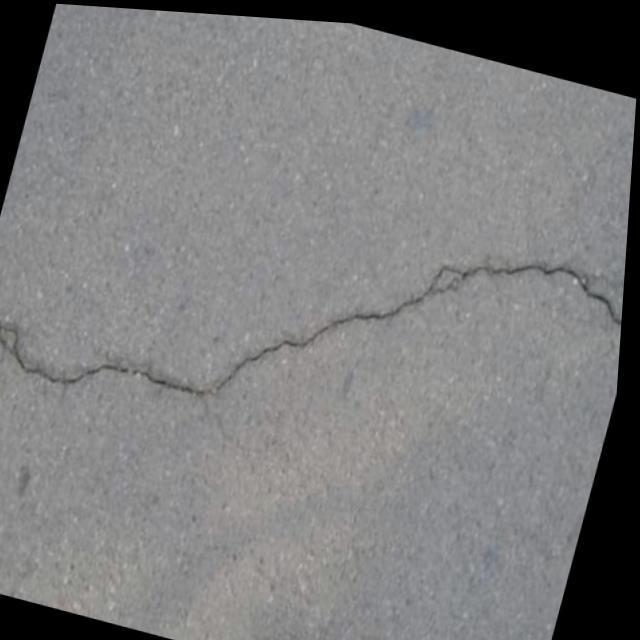Crack: (0, 103, 635, 535)
